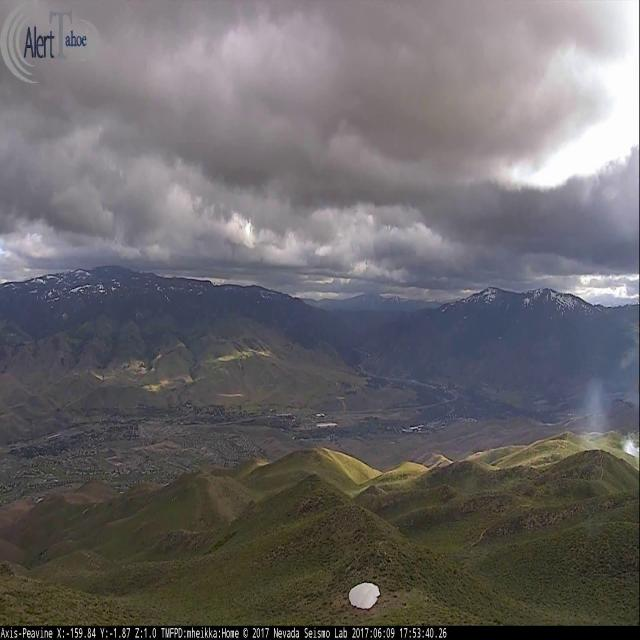smoke: (574, 374, 640, 459)
